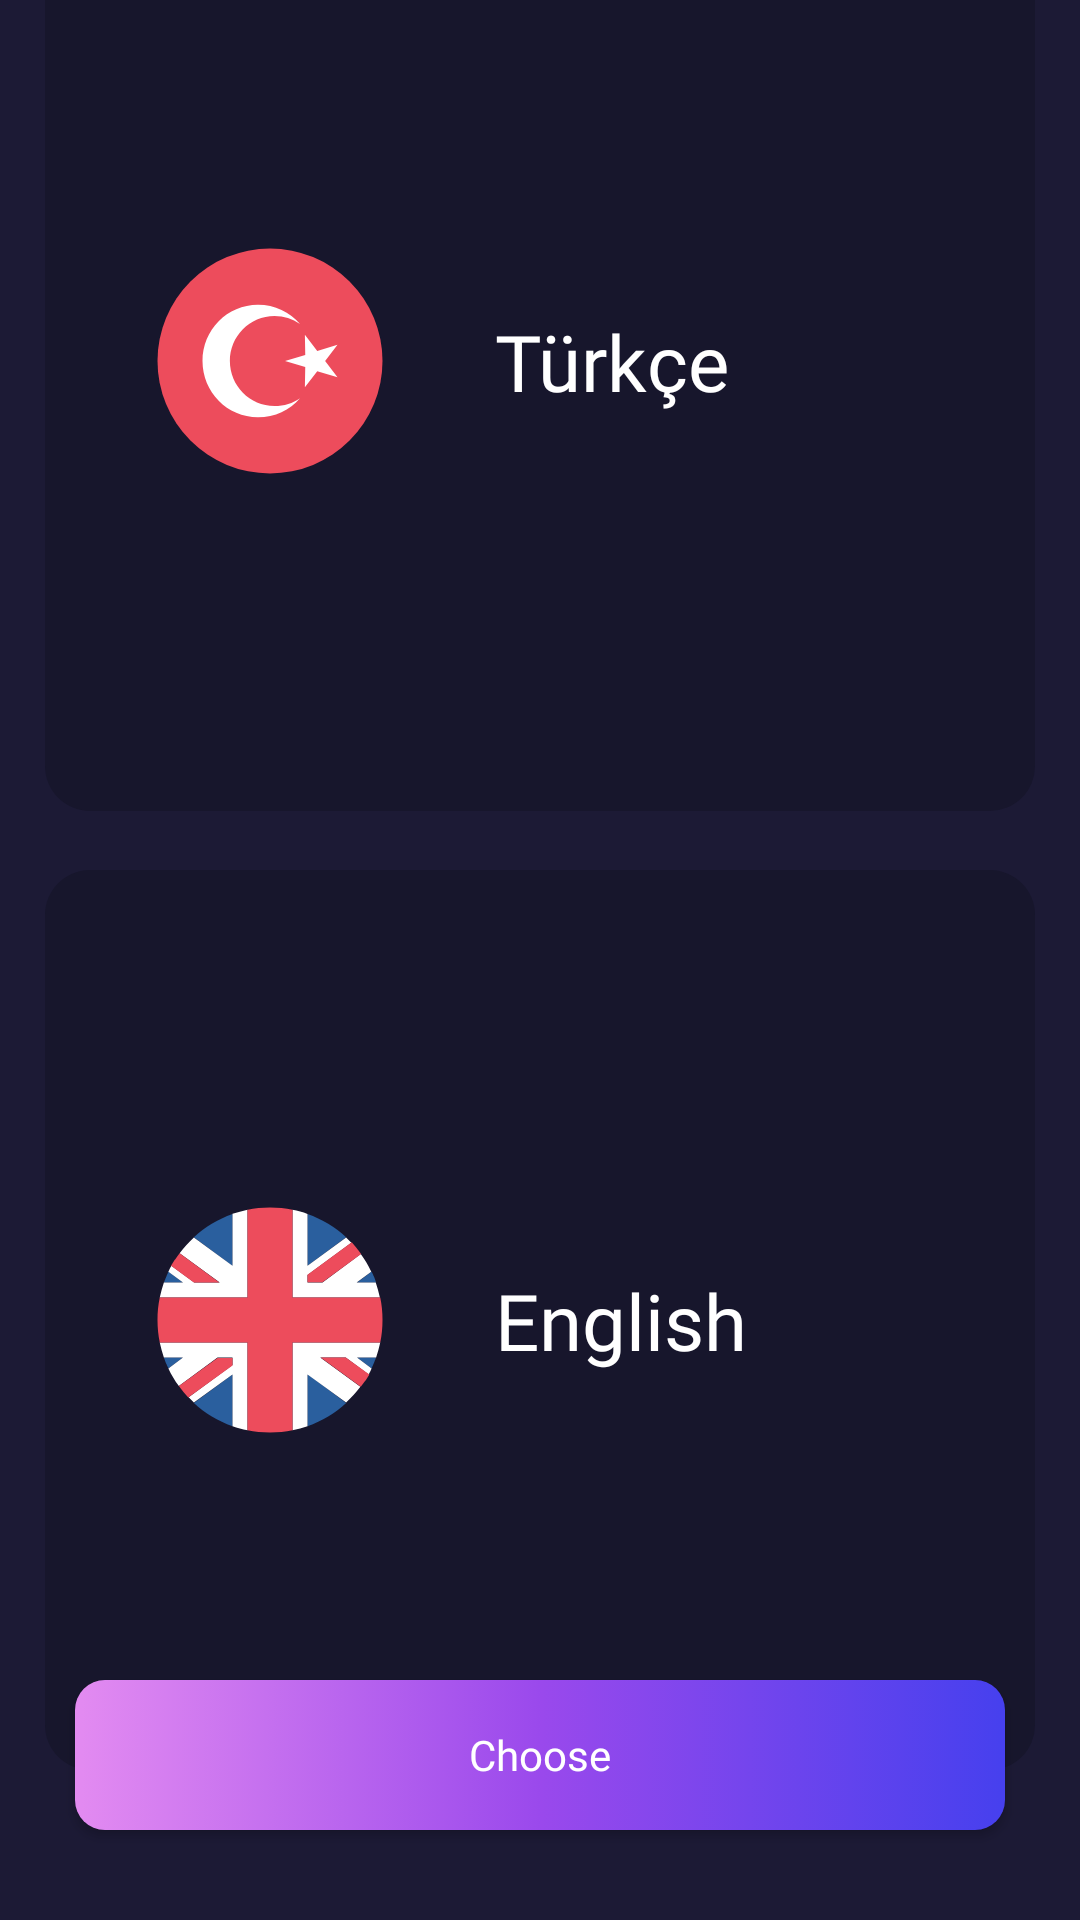

Where to tap for icons on this 1080x1920 app screen, as (x=x, y=y):
flag turkey: (x=270, y=361)
